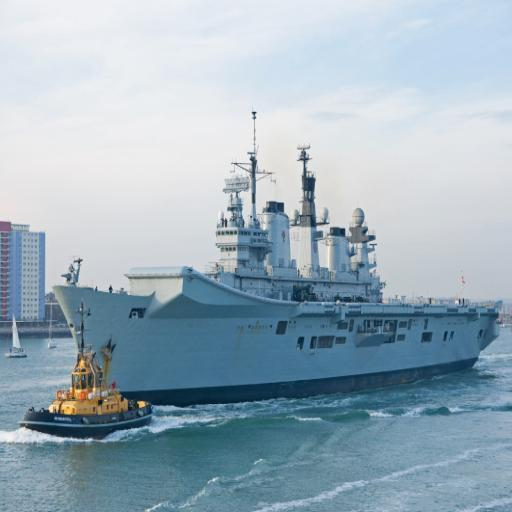Portanaves: (53, 89, 505, 421)
